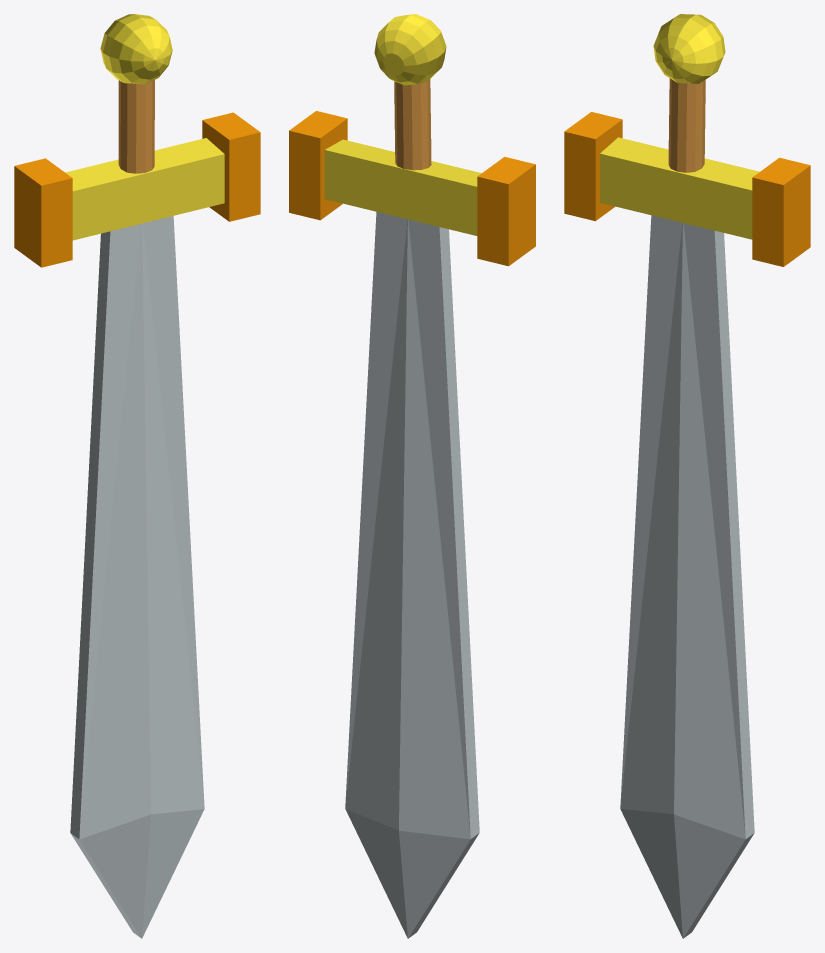
File: talwar Sword Gold.fbx
3 views of the same model, side by side, from view 1: azimuth 30°, elevation 25°; view 2: azimuth 150°, elevation 25°; view 3: azimuth 330°, elevation 25° (orthographic).
Parts seen in each view (by area): view 1: imagetostl_mesh0, imagetostl_mesh1, imagetostl_mesh5, imagetostl_mesh4, imagetostl_mesh3, imagetostl_mesh2; view 2: imagetostl_mesh0, imagetostl_mesh1, imagetostl_mesh5, imagetostl_mesh4, imagetostl_mesh3, imagetostl_mesh2; view 3: imagetostl_mesh0, imagetostl_mesh1, imagetostl_mesh4, imagetostl_mesh5, imagetostl_mesh3, imagetostl_mesh2.
Part boxes in pixels (box(x1,y1,x2,y2)): imagetostl_mesh0: box(70, 216, 204, 938); imagetostl_mesh1: box(65, 138, 224, 240); imagetostl_mesh5: box(14, 158, 72, 267); imagetostl_mesh4: box(202, 112, 260, 221); imagetostl_mesh3: box(100, 14, 172, 84); imagetostl_mesh2: box(118, 80, 154, 173); imagetostl_mesh0: box(345, 211, 479, 938); imagetostl_mesh1: box(324, 139, 481, 235); imagetostl_mesh5: box(477, 156, 535, 266); imagetostl_mesh4: box(289, 111, 347, 220); imagetostl_mesh3: box(374, 14, 446, 85); imagetostl_mesh2: box(394, 79, 431, 170); imagetostl_mesh0: box(620, 215, 754, 938); imagetostl_mesh1: box(600, 137, 759, 239); imagetostl_mesh4: box(752, 157, 810, 266); imagetostl_mesh5: box(564, 112, 622, 221); imagetostl_mesh3: box(653, 14, 725, 83); imagetostl_mesh2: box(668, 78, 705, 172).
Bounding box in the file's own units: 14 × 55.99 × 3.99.
